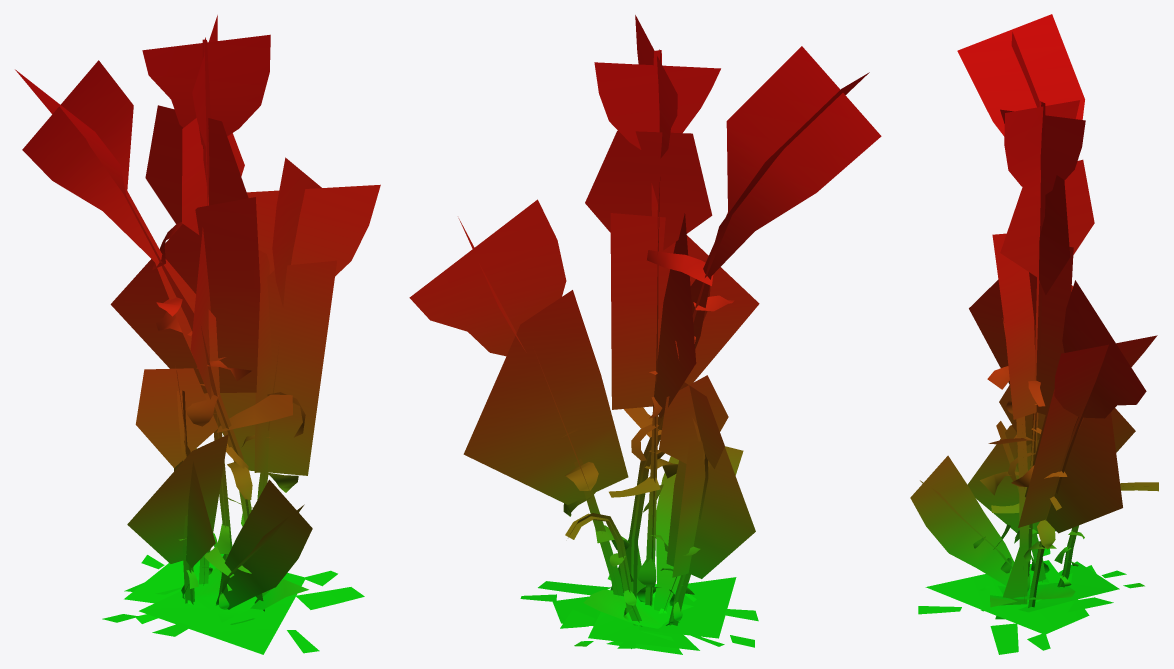
Rendered from Willowherb_LOD1_Var2_tbfpbbhr.fbx.
The picture shows the model from 3 angles, left to right: view 1: azimuth 30°, elevation 25°; view 2: azimuth 150°, elevation 25°; view 3: azimuth 270°, elevation 25°; orthographic projection. The views are drawn at different scales.
Visible parts, largest first — view 1: _ec0d_Var2_LOD1; view 2: _ec0d_Var2_LOD1; view 3: _ec0d_Var2_LOD1.
Part boxes in pixels (x1,y1,x2,y2): _ec0d_Var2_LOD1: [15, 15, 380, 654]; _ec0d_Var2_LOD1: [409, 15, 881, 654]; _ec0d_Var2_LOD1: [910, 14, 1158, 654].
Bounding box in the file's own units: 13.85 × 20.8 × 8.91.
